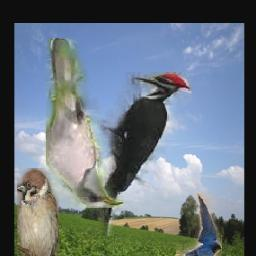Cuckoo: (46, 38, 123, 208)
Sparrow: (16, 168, 58, 256)
Swallow: (175, 193, 221, 256)
Woodpecker: (87, 72, 190, 236)
